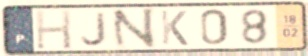0: (198, 7, 231, 48)
8: (240, 7, 272, 47)
H: (33, 9, 74, 51)
J: (79, 10, 108, 48)
K: (158, 9, 190, 47)
N: (109, 6, 158, 51)
